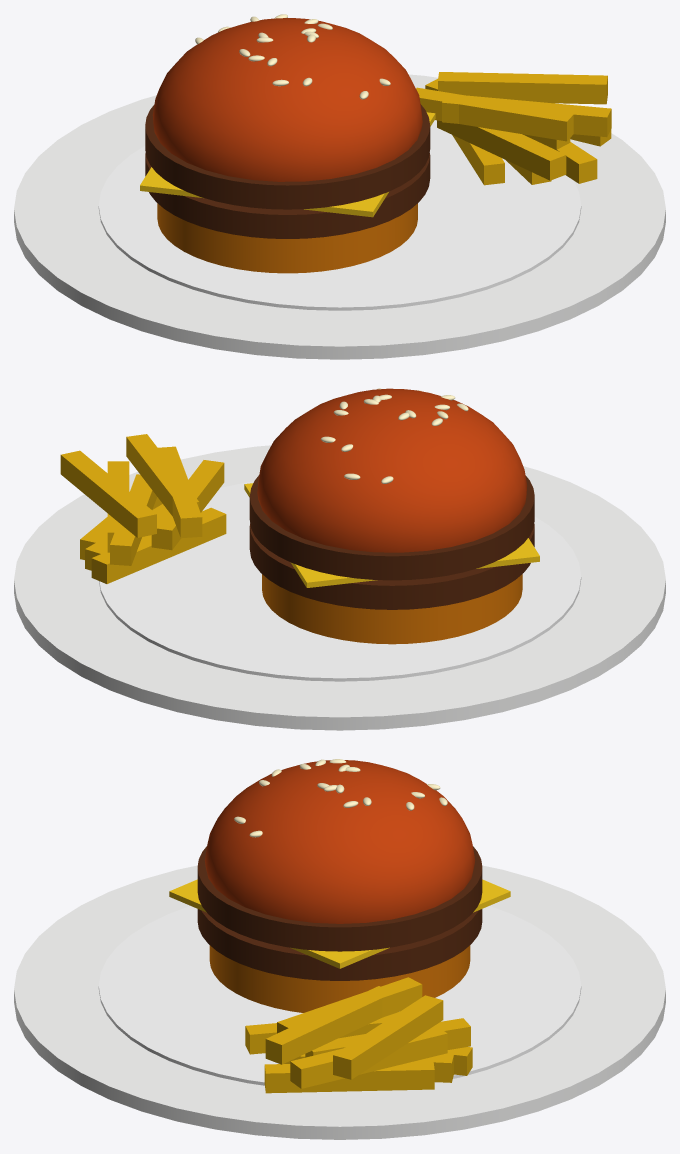
Rendered from smash-burger.glb.
3 views of the same model, one above another, from view 1: azimuth 30°, elevation 25°; view 2: azimuth 150°, elevation 25°; view 3: azimuth 270°, elevation 25° (orthographic).
Bounding box in the file's own units: 0.27 × 0.1006 × 0.27.
